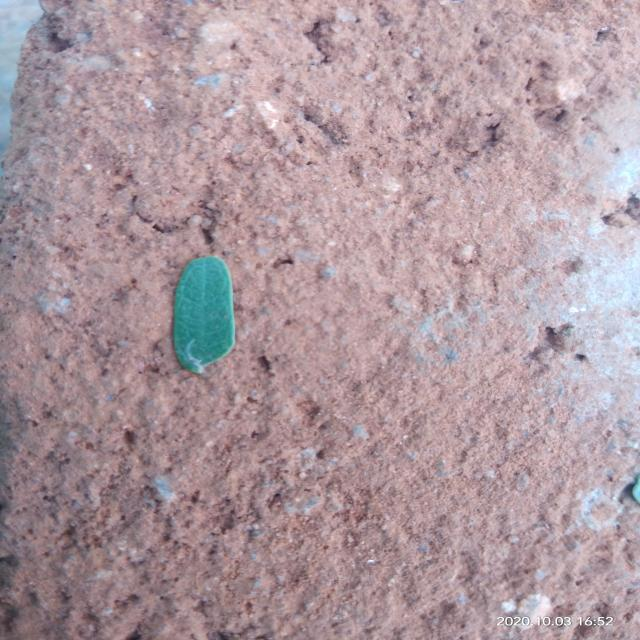tamarind: (173, 256, 235, 374)
